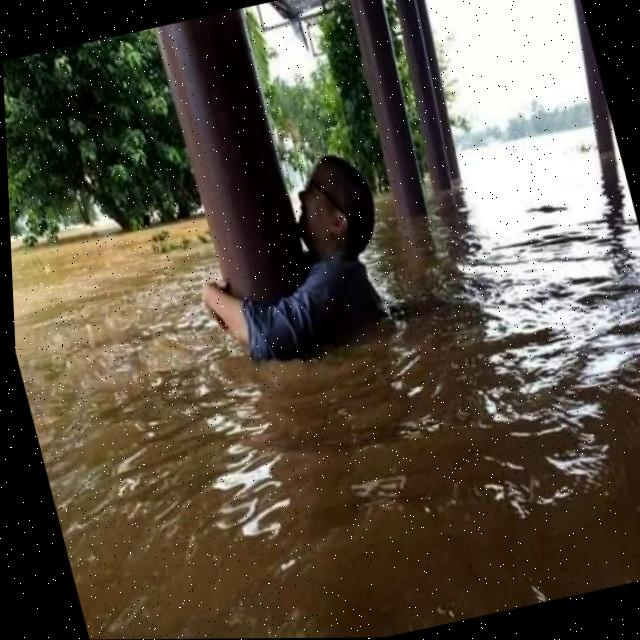civilian: (142, 107, 464, 400)
